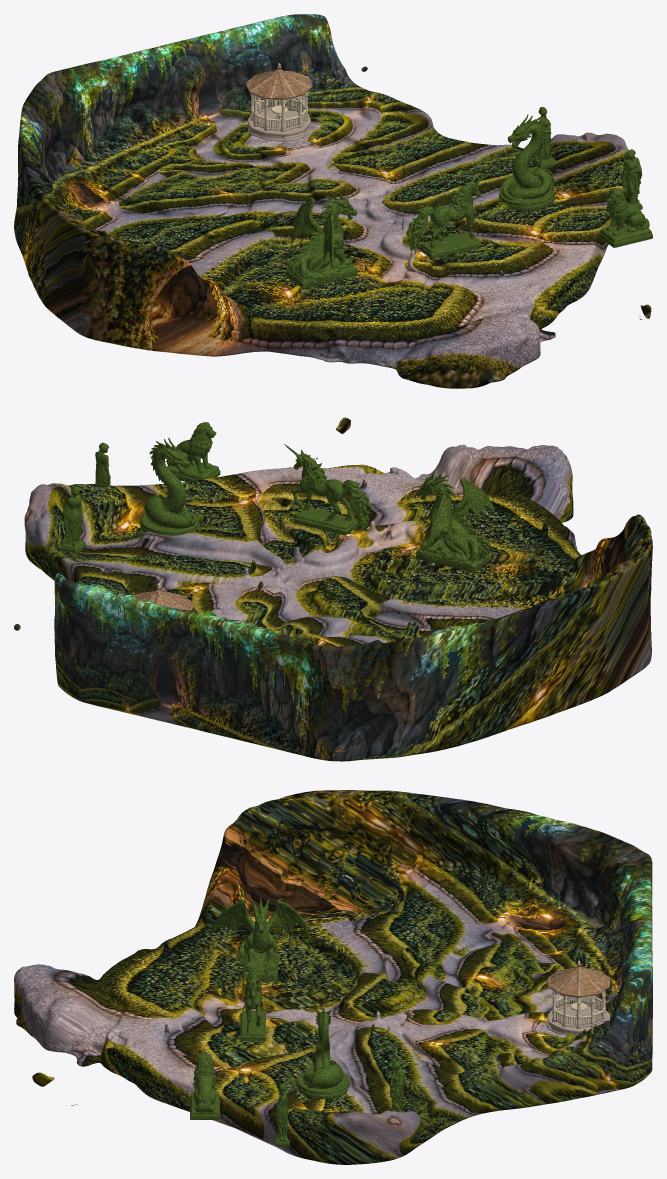
The model's file is garden-hedge-models.glb.
3 renders of one model, top to bottom at view 1: azimuth 30°, elevation 25°; view 2: azimuth 150°, elevation 25°; view 3: azimuth 270°, elevation 25°, orthographic. The views are drawn at different scales.
Visible parts, largest first — view 1: garden-shell - original generated mesh, dragon - original generated mesh, gazebo - original generated mesh, serpent - original generated mesh, unicorn - original generated mesh, dog - original generated mesh, woman-rose - original generated mesh, woman-violet - original generated mesh; view 2: garden-shell - original generated mesh, dragon - original generated mesh, unicorn - original generated mesh, serpent - original generated mesh, dog - original generated mesh, woman-violet - original generated mesh, gazebo - original generated mesh, woman-rose - original generated mesh; view 3: garden-shell - original generated mesh, dragon - original generated mesh, gazebo - original generated mesh, serpent - original generated mesh, dog - original generated mesh, unicorn - original generated mesh, woman-rose - original generated mesh, woman-violet - original generated mesh.
Boxes of the visible parts, x1=… form: garden-shell - original generated mesh: x1=14, y1=14, x2=651, y2=388; dragon - original generated mesh: x1=285, y1=193, x2=357, y2=288; gazebo - original generated mesh: x1=246, y1=63, x2=312, y2=141; serpent - original generated mesh: x1=499, y1=114, x2=555, y2=210; unicorn - original generated mesh: x1=406, y1=172, x2=489, y2=258; dog - original generated mesh: x1=600, y1=188, x2=652, y2=247; woman-rose - original generated mesh: x1=622, y1=149, x2=642, y2=209; woman-violet - original generated mesh: x1=532, y1=107, x2=555, y2=169; garden-shell - original generated mesh: x1=14, y1=417, x2=652, y2=761; dragon - original generated mesh: x1=416, y1=472, x2=494, y2=572; unicorn - original generated mesh: x1=284, y1=444, x2=371, y2=535; serpent - original generated mesh: x1=140, y1=438, x2=199, y2=535; dog - original generated mesh: x1=167, y1=422, x2=220, y2=481; woman-violet - original generated mesh: x1=59, y1=486, x2=85, y2=553; gazebo - original generated mesh: x1=133, y1=583, x2=194, y2=610; woman-rose - original generated mesh: x1=95, y1=442, x2=110, y2=485; garden-shell - original generated mesh: x1=14, y1=790, x2=652, y2=1164; dragon - original generated mesh: x1=212, y1=897, x2=309, y2=981; gazebo - original generated mesh: x1=546, y1=960, x2=610, y2=1035; serpent - original generated mesh: x1=297, y1=1007, x2=349, y2=1098; dog - original generated mesh: x1=190, y1=1052, x2=219, y2=1119; unicorn - original generated mesh: x1=240, y1=969, x2=265, y2=1040; woman-rose - original generated mesh: x1=275, y1=1083, x2=289, y2=1146; woman-violet - original generated mesh: x1=389, y1=1060, x2=405, y2=1112.
Size of the model in its own units: 30 by 5.55 by 29.84.
Materials: 8 (8 with a texture image).
